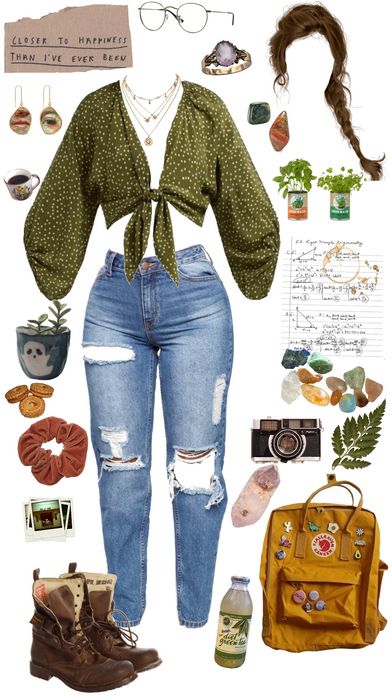аксесуары: (12, 413, 94, 488), (135, 3, 239, 35), (194, 43, 266, 83)
ботинки: (27, 575, 165, 696)
джинсы: (86, 245, 229, 628)
рубашка: (16, 83, 267, 283)
рюкзак: (267, 496, 390, 661)
